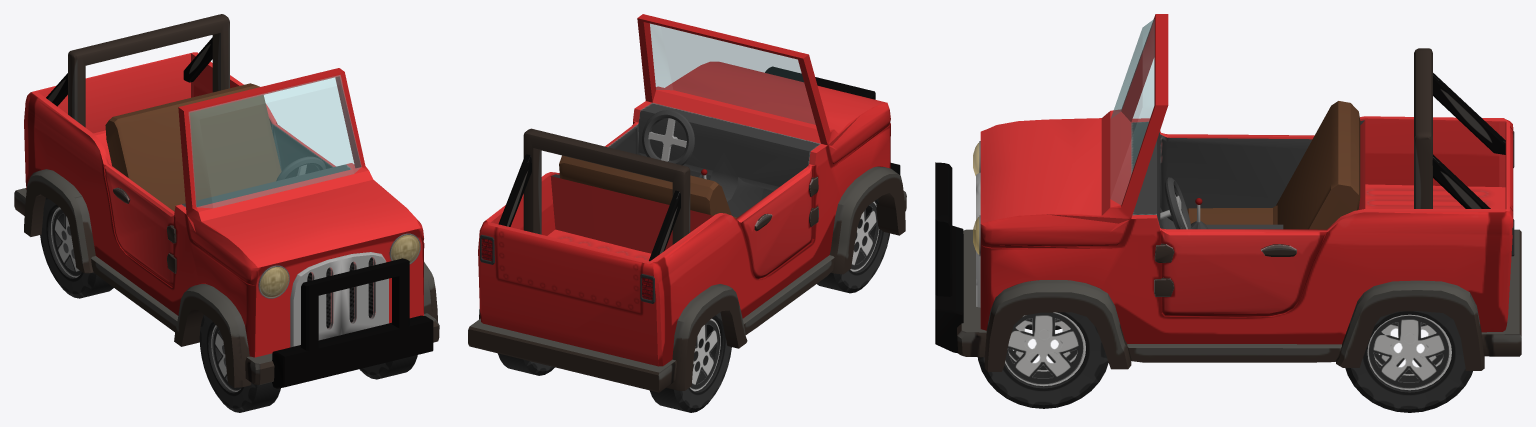
The model's file is hcr2_hill_climber.glb.
The picture shows the model from 3 angles, left to right: view 1: azimuth 30°, elevation 25°; view 2: azimuth 150°, elevation 25°; view 3: azimuth 270°, elevation 25°; orthographic projection. The views are drawn at different scales.
Parts seen in each view (by area): view 1: HCR2_HC_Body_1, HCR2_HC_Window_15, HCR2_HC_Seat_14, HCR2_HC_Bumpers_3, HCR2_HC_Bump2_2, HCR2_HC_Cage_4, HCR2_HC_Grl_8, HCR2_HC_RR_Wheel_12, HCR2_HC_FR_Wheel_7, HCR2_HC_Lights_9, HCR2_HC_FL_Wheel_6, HCR2_HC_Steer_16 (+1 smaller); view 2: HCR2_HC_Body_1, HCR2_HC_Bumpers_3, HCR2_HC_Window_15, HCR2_HC_Cage_4, HCR2_HC_Seat_14, HCR2_HC_RR_Wheel_12, HCR2_HC_FR_Wheel_7, HCR2_HC_Steer_16, HCR2_HC_Bump2_2, HCR2_HC_Rear_Lights_13, HCR2_HC_RL_Wheel_11, HCR2_HC_Details_5; view 3: HCR2_HC_Body_1, HCR2_HC_Bumpers_3, HCR2_HC_RL_Wheel_11, HCR2_HC_Seat_14, HCR2_HC_FL_Wheel_6, HCR2_HC_Cage_4, HCR2_HC_Window_15, HCR2_HC_Bump2_2, HCR2_HC_Details_5, HCR2_HC_Steer_16, HCR2_HC_Grl_8.
Part boxes in pixels (bbox=[...]): HCR2_HC_Body_1: bbox=[24, 52, 424, 357]; HCR2_HC_Window_15: bbox=[189, 75, 361, 207]; HCR2_HC_Seat_14: bbox=[105, 83, 281, 211]; HCR2_HC_Bumpers_3: bbox=[14, 169, 439, 387]; HCR2_HC_Bump2_2: bbox=[272, 258, 433, 388]; HCR2_HC_Cage_4: bbox=[46, 14, 229, 127]; HCR2_HC_Grl_8: bbox=[290, 252, 388, 347]; HCR2_HC_RR_Wheel_12: bbox=[40, 198, 113, 298]; HCR2_HC_FR_Wheel_7: bbox=[199, 315, 280, 412]; HCR2_HC_Lights_9: bbox=[260, 235, 419, 297]; HCR2_HC_FL_Wheel_6: bbox=[359, 355, 417, 379]; HCR2_HC_Steer_16: bbox=[276, 156, 325, 180]; HCR2_HC_Body_1: bbox=[478, 14, 890, 366]; HCR2_HC_Bumpers_3: bbox=[468, 166, 906, 392]; HCR2_HC_Window_15: bbox=[650, 24, 815, 124]; HCR2_HC_Cage_4: bbox=[498, 128, 690, 261]; HCR2_HC_Seat_14: bbox=[559, 155, 737, 218]; HCR2_HC_RR_Wheel_12: bbox=[649, 312, 731, 412]; HCR2_HC_FR_Wheel_7: bbox=[817, 199, 889, 293]; HCR2_HC_Steer_16: bbox=[642, 110, 694, 165]; HCR2_HC_Bump2_2: bbox=[765, 66, 900, 174]; HCR2_HC_Rear_Lights_13: bbox=[480, 234, 655, 303]; HCR2_HC_RL_Wheel_11: bbox=[498, 353, 554, 375]; HCR2_HC_Details_5: bbox=[754, 177, 818, 231]; HCR2_HC_Body_1: bbox=[980, 14, 1513, 344]; HCR2_HC_Bumpers_3: bbox=[957, 229, 1521, 371]; HCR2_HC_RL_Wheel_11: bbox=[1345, 311, 1472, 412]; HCR2_HC_Seat_14: bbox=[1187, 101, 1360, 229]; HCR2_HC_FL_Wheel_6: bbox=[977, 312, 1108, 408]; HCR2_HC_Cage_4: bbox=[1414, 48, 1505, 208]; HCR2_HC_Window_15: bbox=[1110, 18, 1154, 204]; HCR2_HC_Bump2_2: bbox=[935, 162, 963, 353]; HCR2_HC_Details_5: bbox=[1154, 150, 1296, 296]; HCR2_HC_Steer_16: bbox=[1164, 177, 1191, 229]; HCR2_HC_Grl_8: bbox=[976, 172, 980, 307].
Bounding box in the file's own units: 1.56 × 1.92 × 3.35.
2 materials, 2 textured.
